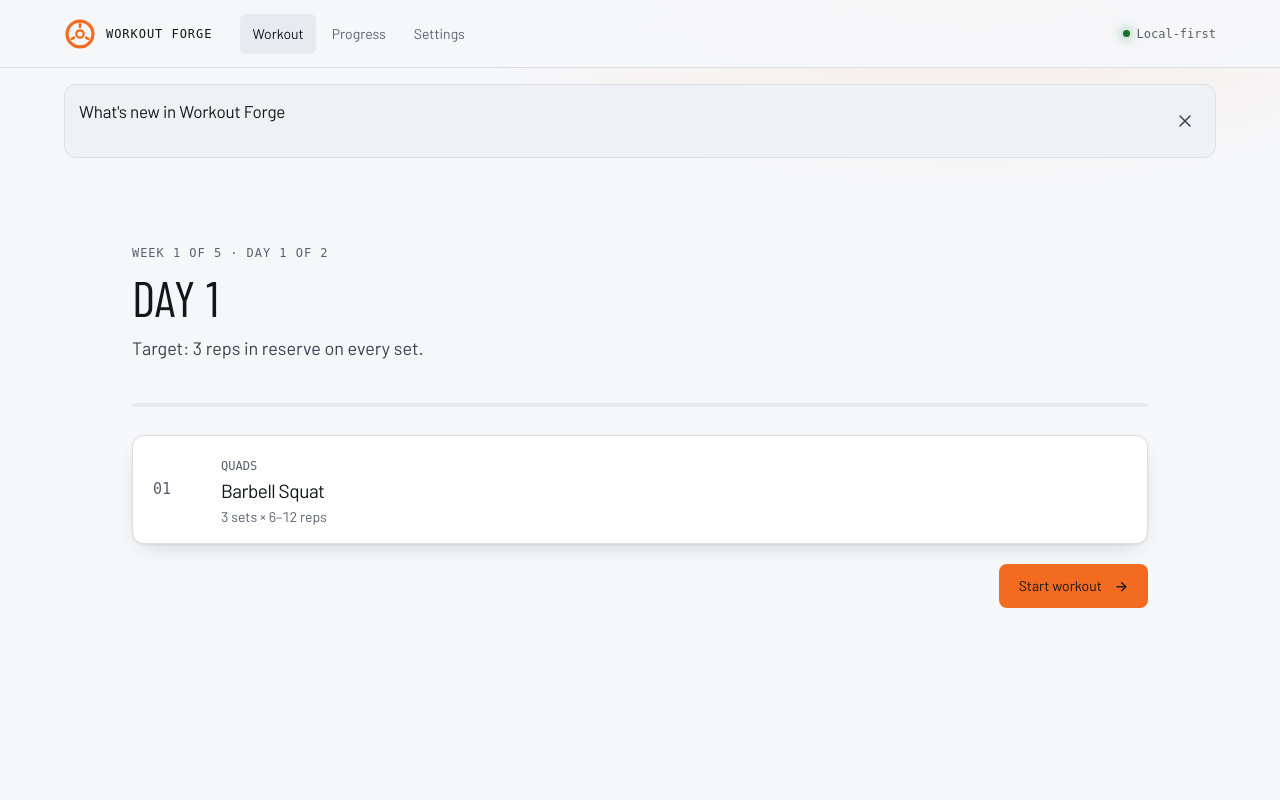
Test case: warm-up hint in the session › shows the ramp above the set table for a compound barbell lift, and follows the typed weight
Click the button "Start workout →" at [1073, 586], box top-left (999, 564), bottom-right (1148, 608)
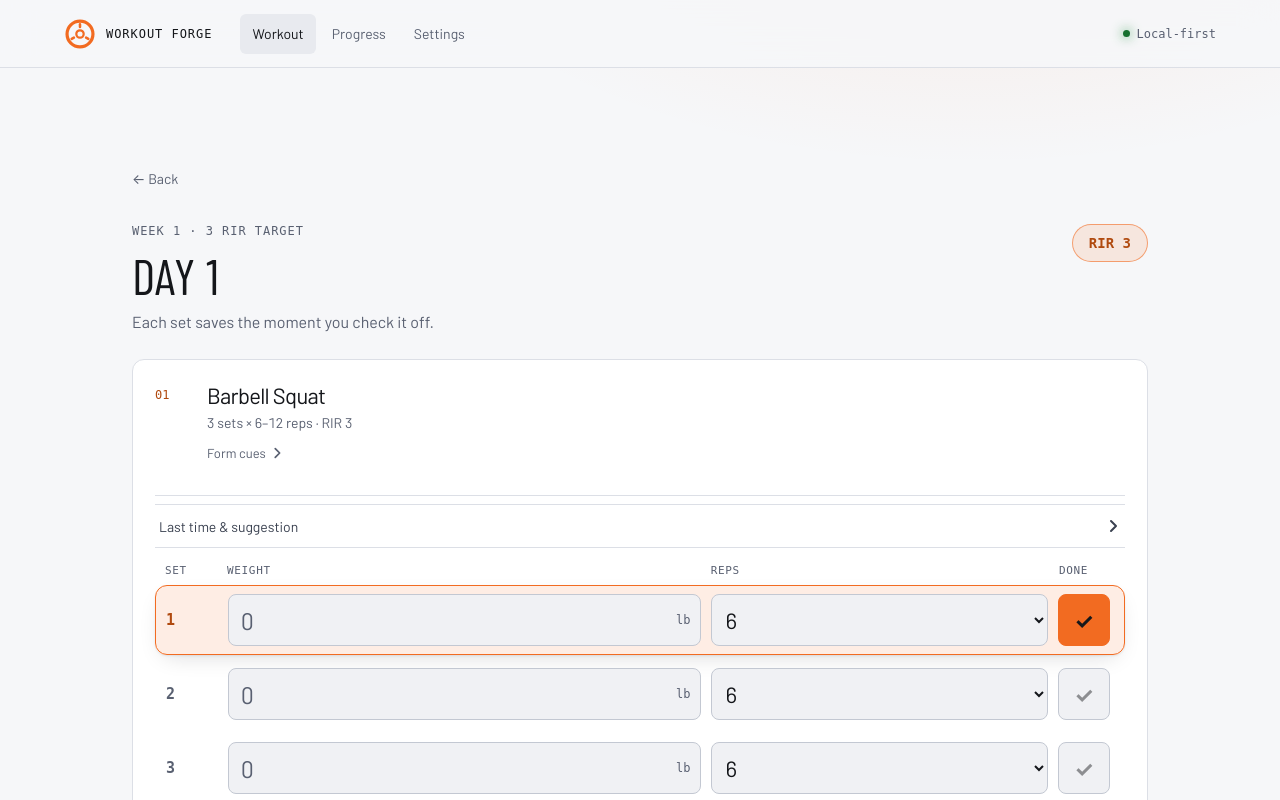
Type "135" into the field named "Set 1 weight" at [464, 620], box top-left (228, 594), bottom-right (700, 646)
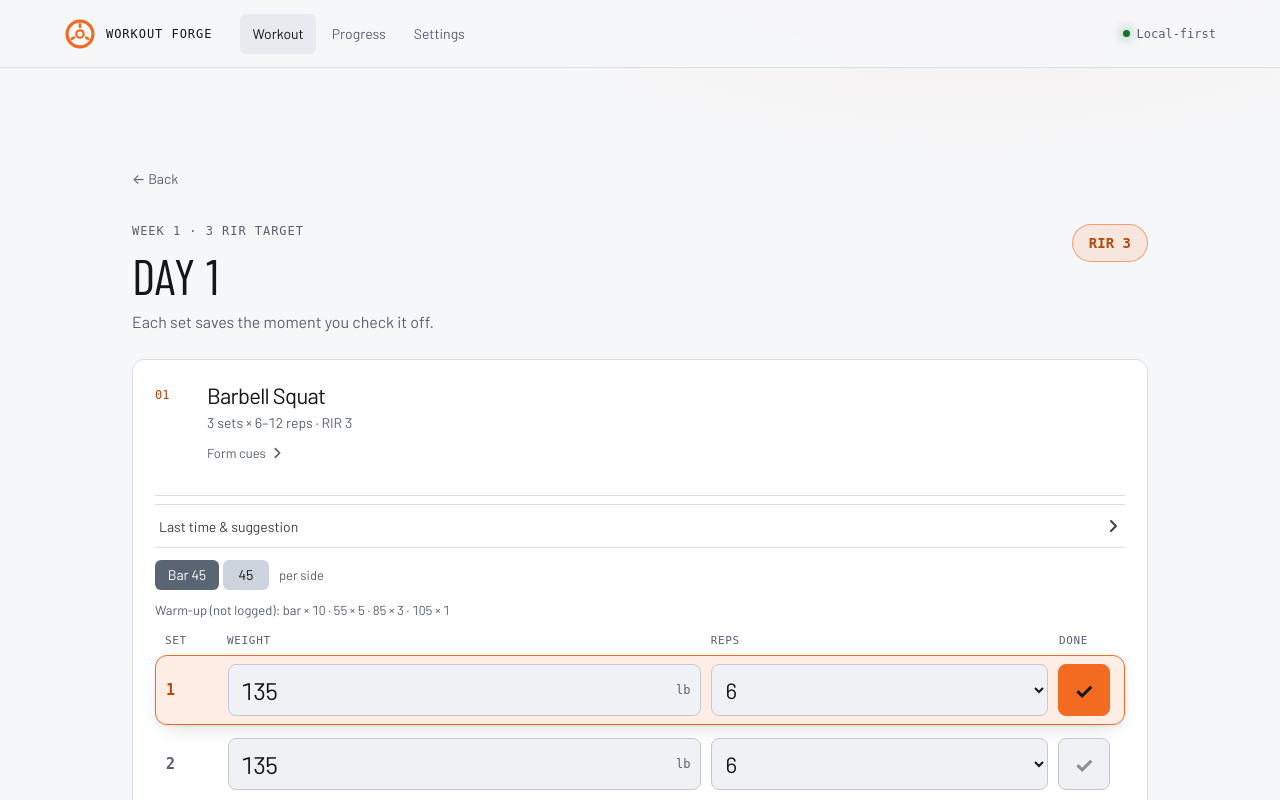
Now the text with class "warmup-hint" reads "Warm-up (not logged): bar × 10 · 55 × 5 · 85 × 3 · 105 × 1", box top-left (155, 602), bottom-right (450, 618)
Replace the text in the field named "Set 1 weight" with "225" at [464, 690], box top-left (228, 664), bottom-right (700, 716)
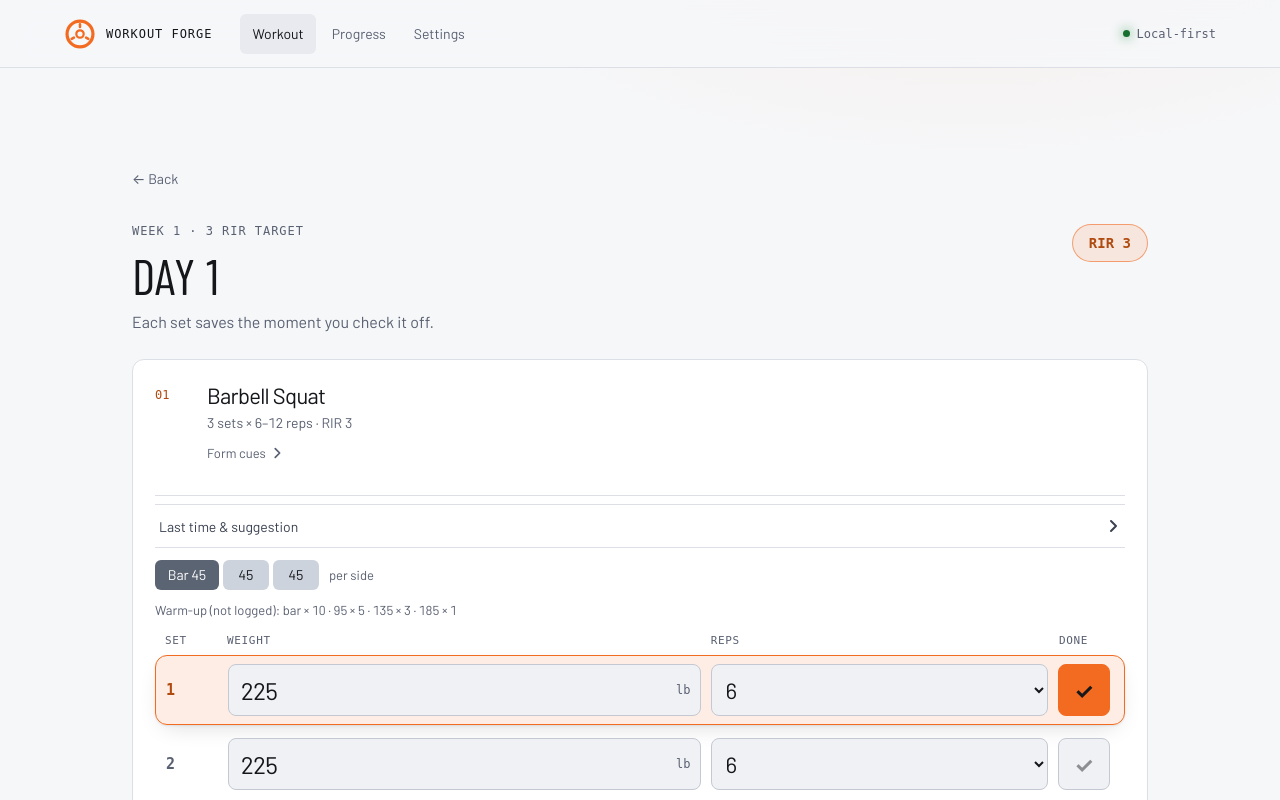
Now the text with class "warmup-hint" reads "Warm-up (not logged): bar × 10 · 95 × 5 · 135 × 3 · 185 × 1", box top-left (155, 602), bottom-right (457, 618)
Clear the field named "Set 1 weight" at [464, 690], box top-left (228, 664), bottom-right (700, 716)
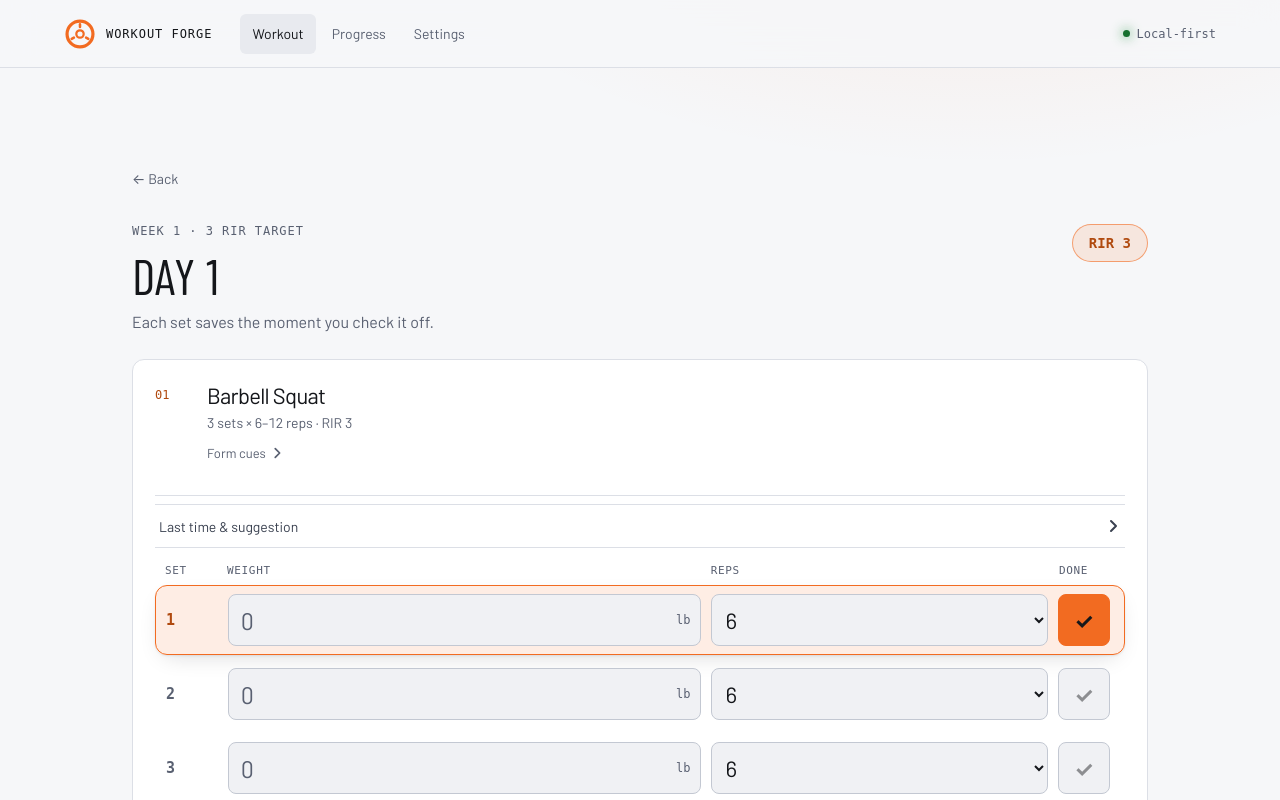
Now the text with class "warmup-hint" is gone
